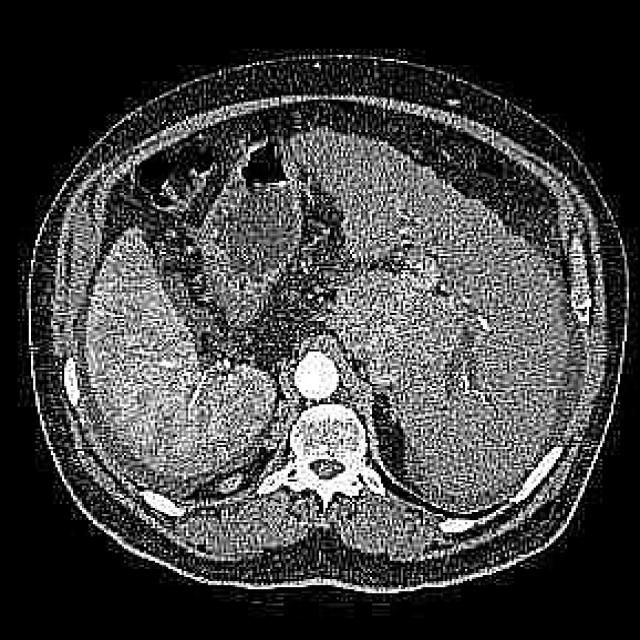Tumor-Cell: (267, 356, 395, 510)
